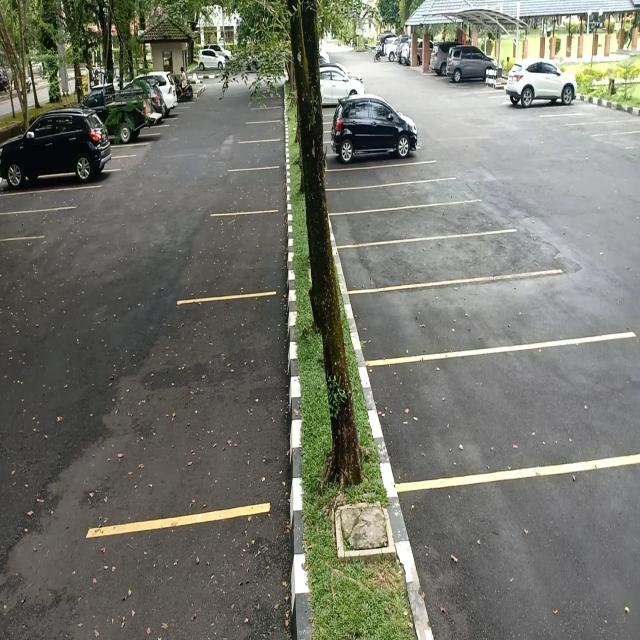empty: (100, 292, 284, 516), (384, 349, 640, 484), (364, 283, 548, 359), (346, 237, 512, 289), (198, 212, 289, 298), (332, 208, 483, 243), (330, 184, 453, 211), (227, 166, 289, 212), (328, 166, 445, 186), (0, 188, 81, 214), (233, 140, 284, 169)
occupied: (0, 138, 112, 194), (328, 126, 426, 170), (504, 78, 580, 110)
